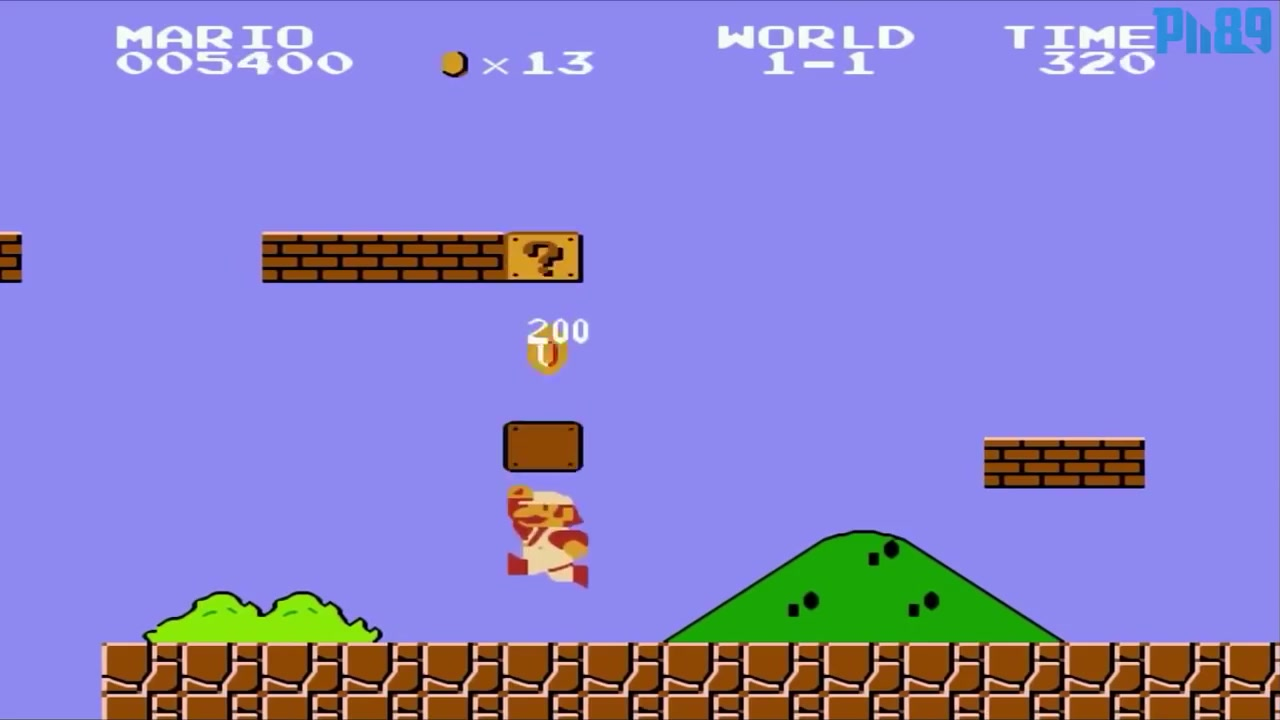mario: (497, 482, 599, 586)
